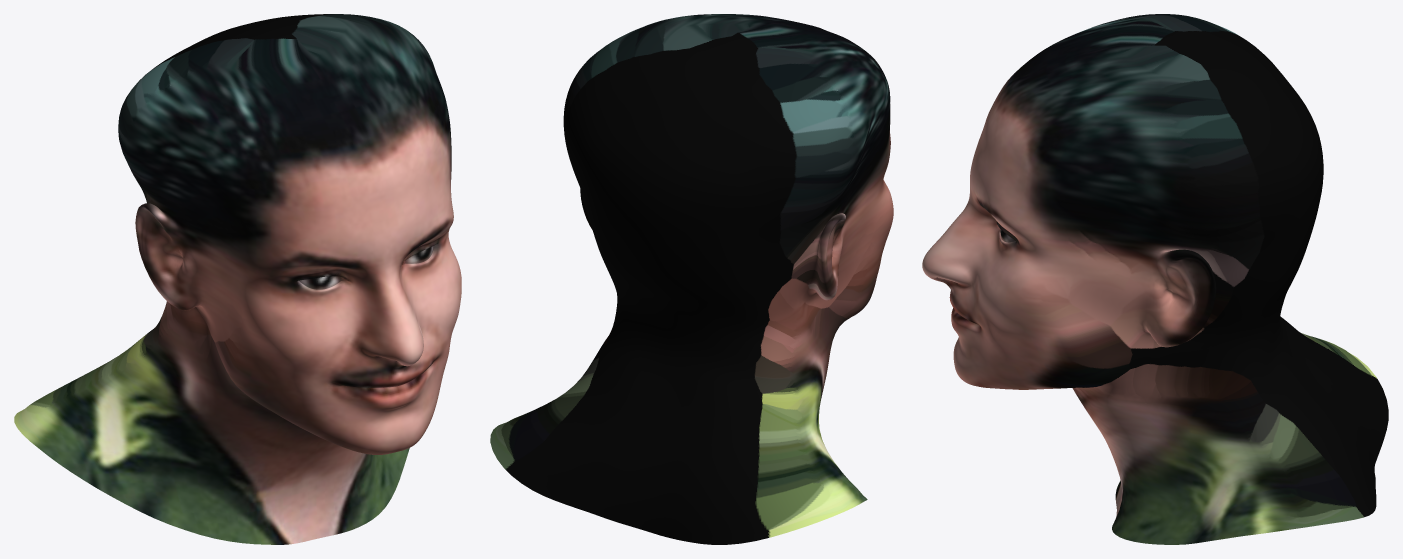
Rendered from NtrModel.glb.
3 renders of one model, left to right at view 1: azimuth 30°, elevation 25°; view 2: azimuth 150°, elevation 25°; view 3: azimuth 270°, elevation 25°, orthographic. The views are drawn at different scales.
Parts seen in each view (by area): view 1: FBHead; view 2: FBHead; view 3: FBHead.
Boxes of the visible parts, bbox=[...] form: FBHead: bbox=[14, 14, 461, 544]; FBHead: bbox=[490, 14, 893, 544]; FBHead: bbox=[922, 14, 1388, 544].
Size of the model in its own units: 1.78 by 2.16 by 1.95.
1 material, 1 textured.
